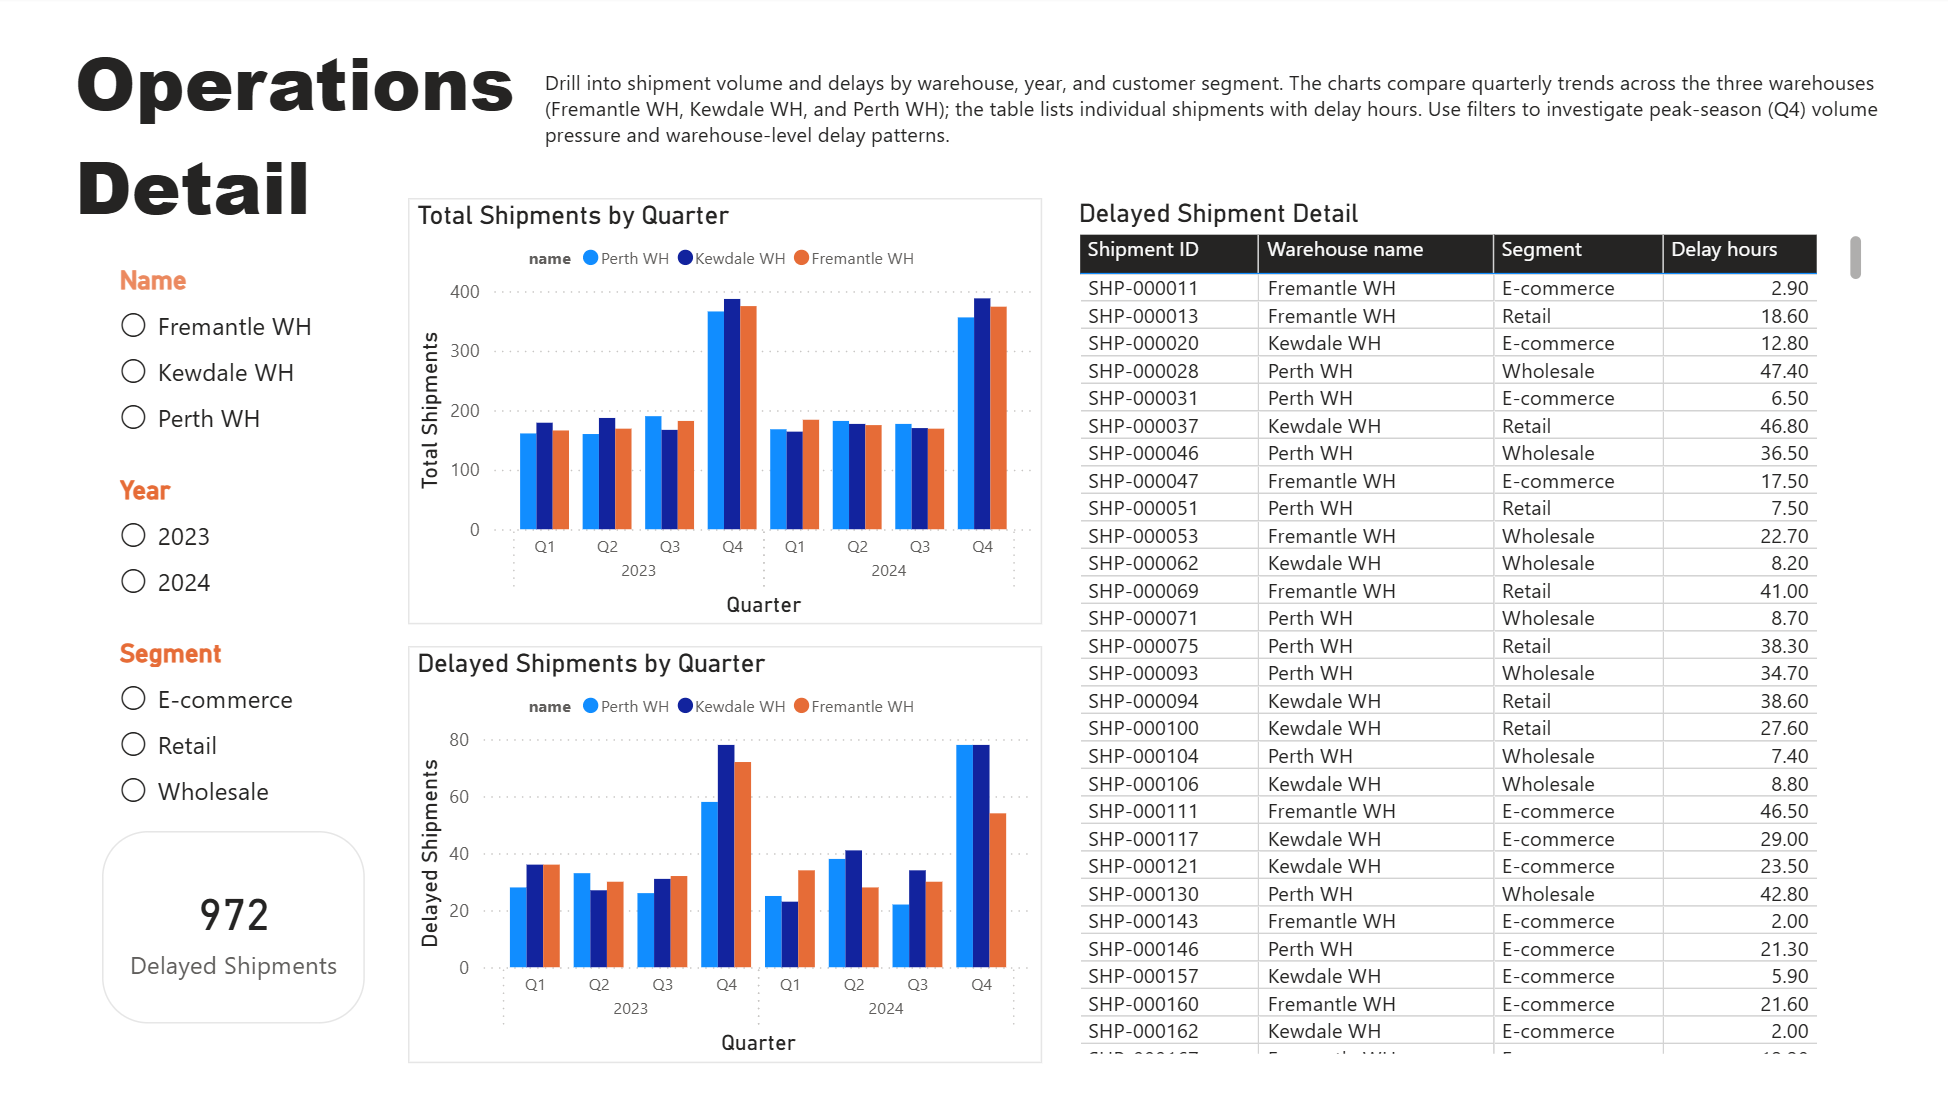

Layout of this report page (visuals, bound fields, positions):
{"tool":"powerbi","page":{"name":"Operations Detail","canvas":[1280,720],"ordinal":1},"visuals":[{"type":"listSlicer","title":"Name","fields":{"Values":["mart dim_warehouse.name"]},"box":[75.9,175.4,182.6,126.3],"z":0},{"type":"listSlicer","title":"Year","fields":{"Values":["mart dim_date.year"]},"box":[75.9,312.8,182.6,93.6],"z":1000},{"type":"listSlicer","title":"Segment","fields":{"Values":["mart dim_customer.segment"]},"box":[75.9,419.5,182.6,126.3],"z":2000},{"type":"tableEx","title":"Delayed Shipment Detail","fields":{"Values":["mart fact_shipments.shipment_id","mart dim_warehouse.name","mart dim_customer.segment","mart fact_shipments.delay_hours"]},"box":[703.5,131.5,522.9,564.7],"z":3000},{"type":"card","fields":{"Values":["Sum(mart fact_shipments.is_delayed)"]},"box":[69.3,546,172.4,126],"z":4000},{"type":"textbox","box":[46.6,16,298.5,152.6],"z":5000},{"type":"clusteredColumnChart","title":"Total Shipments by Quarter","fields":{"Y":["mart fact_shipments.Total Shipments"],"Series":["mart dim_warehouse.name"],"Category":["mart dim_date.year","mart dim_date.Quarter Label"]},"box":[269.6,131.5,414.9,279.4],"z":6000},{"type":"clusteredColumnChart","title":"Delayed Shipments by Quarter","fields":{"Series":["mart dim_warehouse.name"],"Y":["mart dim_customer.Delayed Shipments"],"Category":["mart dim_date.year","mart dim_date.Quarter Label"]},"box":[269.6,424.7,414.9,272.9],"z":7000},{"type":"textbox","box":[353.7,42.2,906.4,75.9],"z":8000}]}

Visuals, with their boxes in screenshot pixels (x1, y1, x2, y2), scaled from the page's 1280x720 canvas onto the 1948x1095 screenshot:
"Name" listSlicer: select_region(116, 267, 393, 459)
"Year" listSlicer: select_region(116, 476, 393, 618)
"Segment" listSlicer: select_region(116, 638, 393, 830)
"Delayed Shipment Detail" tableEx: select_region(1071, 200, 1866, 1059)
card - Sum(mart fact_shipments.is_delayed): select_region(105, 830, 368, 1022)
textbox: select_region(71, 24, 525, 256)
"Total Shipments by Quarter" clusteredColumnChart: select_region(410, 200, 1042, 625)
"Delayed Shipments by Quarter" clusteredColumnChart: select_region(410, 646, 1042, 1061)
textbox: select_region(538, 64, 1918, 180)
